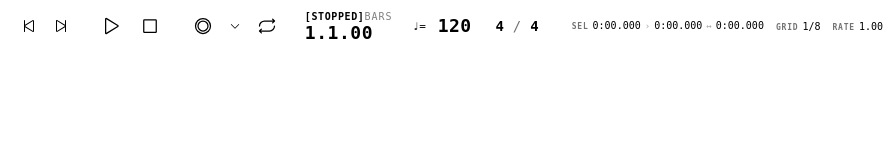
Test: TransportBar time signature readout › clicking numerator opens inline input
This screenshot has width=895, height=160.
Step 1. Click the button named "Beats per bar" → (500, 26), box 487,17 -> 512,35
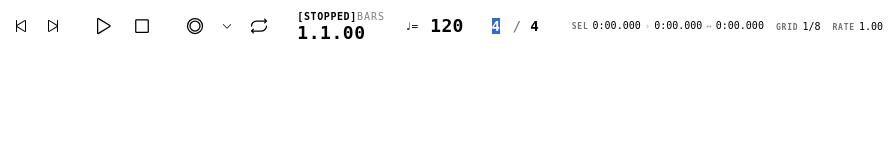
Check: the field named "Time signature numerator" is shown, box 480,16 -> 512,36
